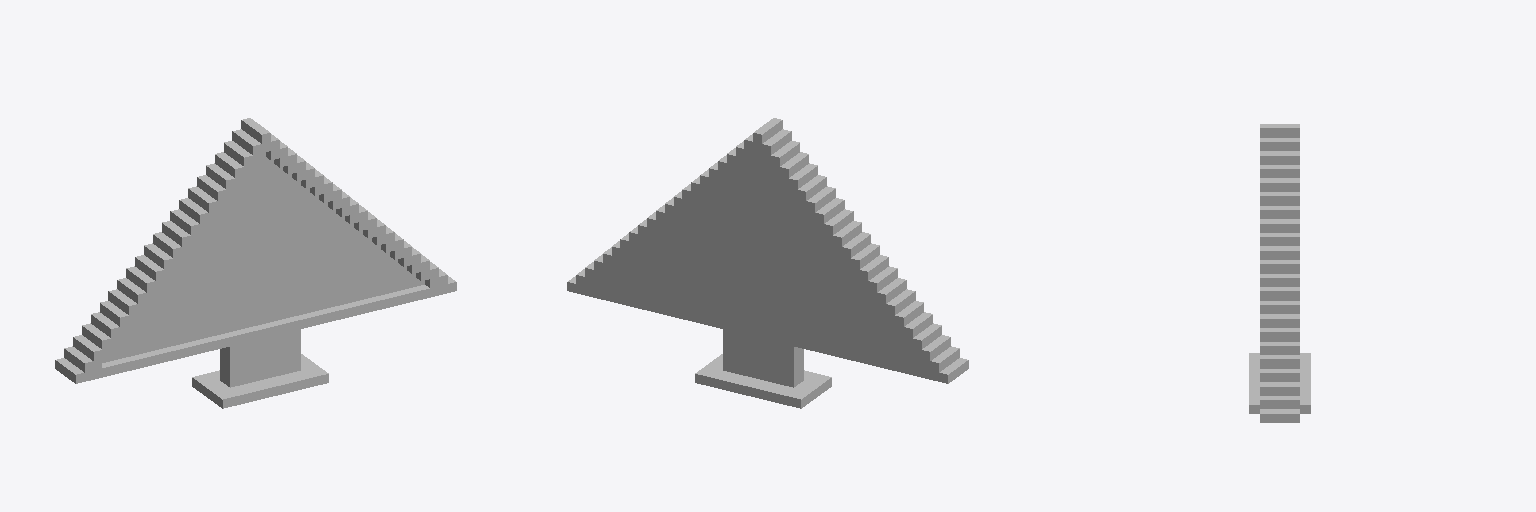
File: Game_monitor4.obj
3 views of the same model, side by side, from view 1: azimuth 30°, elevation 25°; view 2: azimuth 150°, elevation 25°; view 3: azimuth 270°, elevation 25° (orthographic).
Parts seen in each view (by area): view 1: monitor4; view 2: monitor4; view 3: monitor4.
Boxes of the visible parts, <box> form: monitor4: <box>55,118,456,408</box>; monitor4: <box>567,118,968,408</box>; monitor4: <box>1249,124,1310,422</box>.
Size of the model in its own units: 4.3 by 2.8 by 0.6.